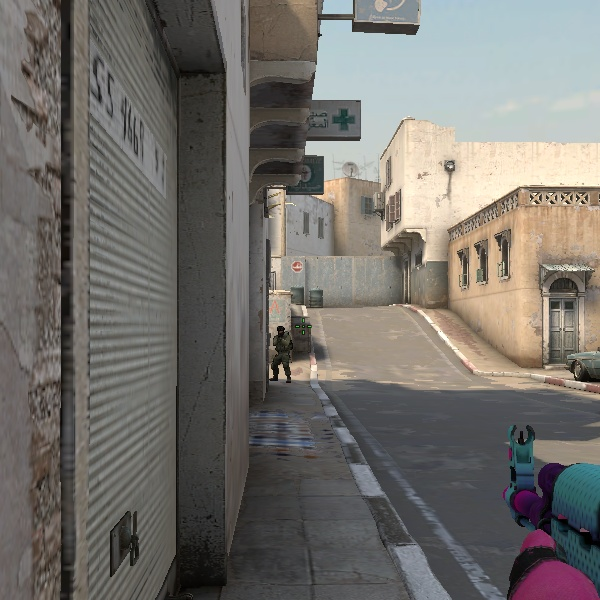ct_body: (267, 325, 293, 382)
ct_head: (275, 324, 287, 336)
